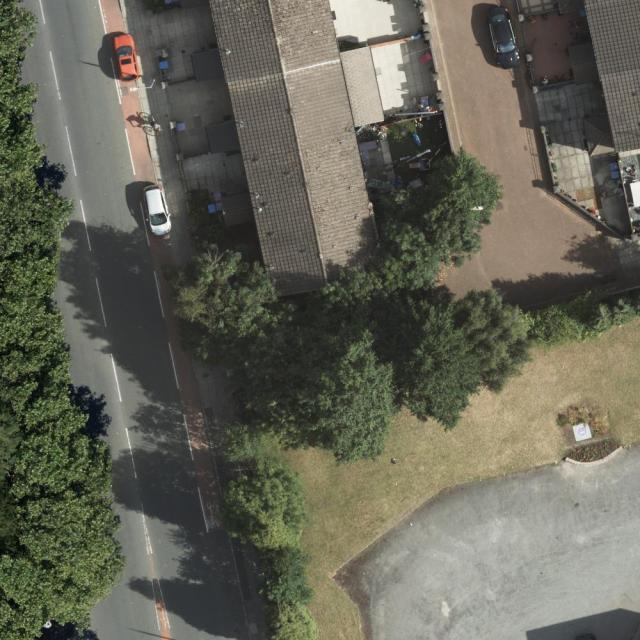roof: (208, 0, 389, 302), (582, 0, 640, 157)
